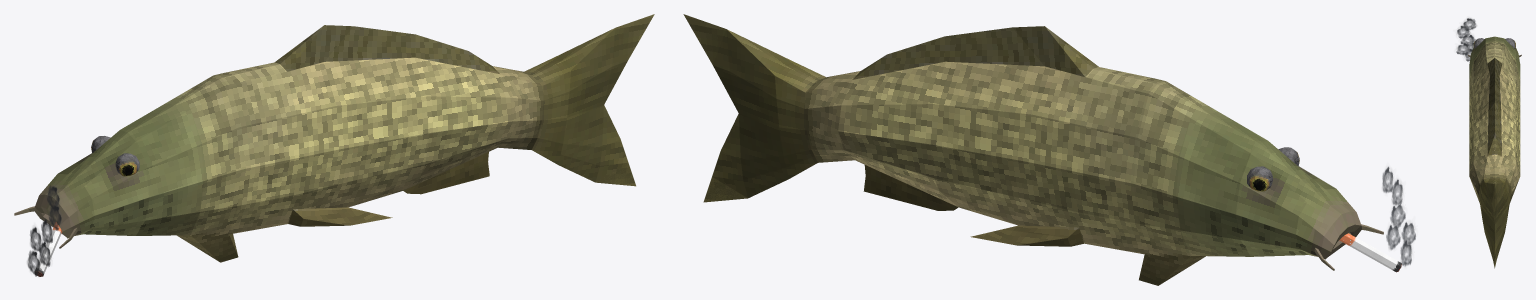
Rendered from Carp.glb.
The picture shows the model from 3 angles, left to right: view 1: azimuth 30°, elevation 25°; view 2: azimuth 150°, elevation 25°; view 3: azimuth 270°, elevation 25°; orthographic projection. The views are drawn at different scales.
Parts seen in each view (by area): view 1: Cube, Icosphere, Cigarette; view 2: Cube, Icosphere, Cigarette; view 3: Cube, Plane.005, Plane.004, Icosphere, Plane.001, Plane.003.
Boxes of the visible parts, <box> form: Cube: <box>14,14,654,262</box>; Icosphere: <box>91,136,139,176</box>; Cigarette: <box>34,222,62,276</box>; Cube: <box>683,14,1383,285</box>; Icosphere: <box>1247,147,1299,191</box>; Cigarette: <box>1339,233,1401,272</box>; Cube: <box>1468,36,1521,268</box>; Plane.005: <box>1463,18,1476,30</box>; Plane.004: <box>1456,25,1470,38</box>; Icosphere: <box>1473,38,1515,48</box>; Plane.001: <box>1456,43,1470,54</box>; Plane.003: <box>1460,34,1475,46</box>.
Size of the model in its own units: 4.81 by 1.7 by 0.8083.
4 materials, 4 textured.
